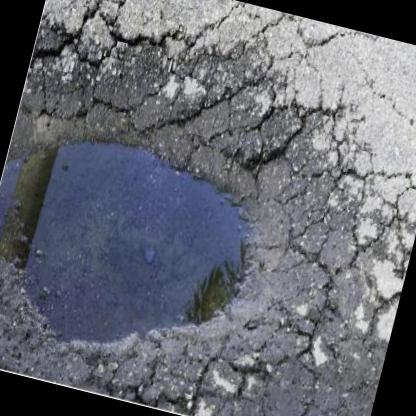pothole: (0, 25, 333, 394)
